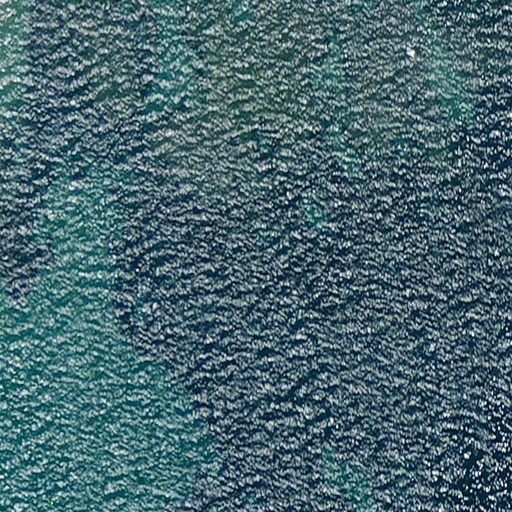ship: (405, 46, 417, 59)
